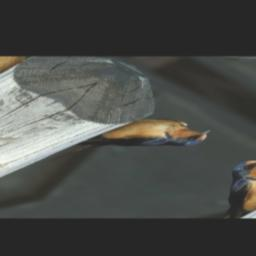Swallow: (43, 105, 219, 189)
